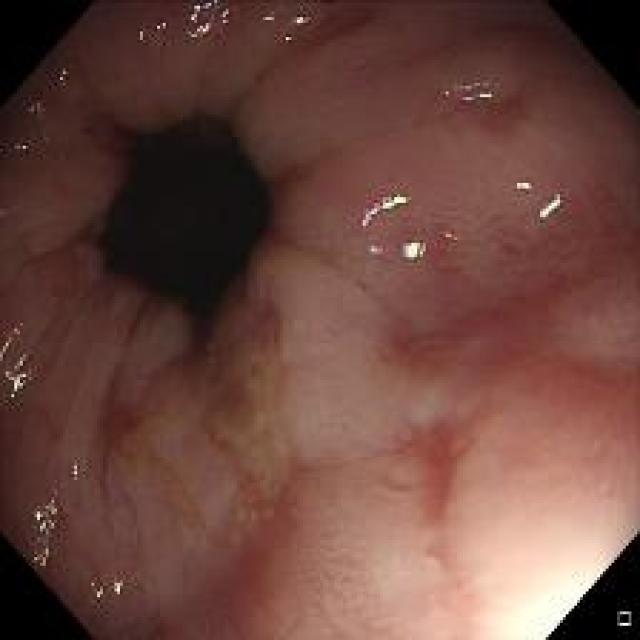color misalignment: (125, 2, 321, 54), (25, 468, 65, 574), (1, 315, 46, 400), (354, 181, 420, 226), (79, 561, 138, 611), (14, 94, 46, 165), (365, 235, 438, 266), (538, 178, 571, 229), (441, 82, 500, 104), (68, 449, 92, 485), (52, 59, 78, 86), (514, 178, 535, 192)
contrast: (76, 101, 299, 344)
saturation: (468, 520, 610, 638)
specularity: (359, 198, 408, 224), (32, 509, 50, 566), (538, 196, 562, 216), (191, 4, 210, 21), (404, 238, 419, 259), (9, 372, 20, 395), (514, 179, 532, 189), (292, 14, 304, 24), (110, 581, 120, 592), (280, 35, 292, 44)
